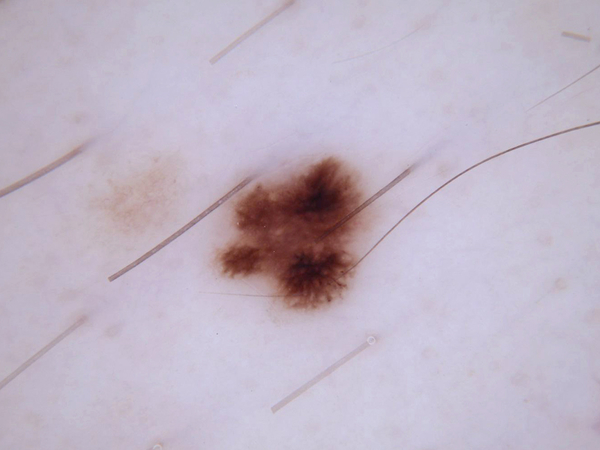Detected Lesion: (210, 146, 365, 316)
